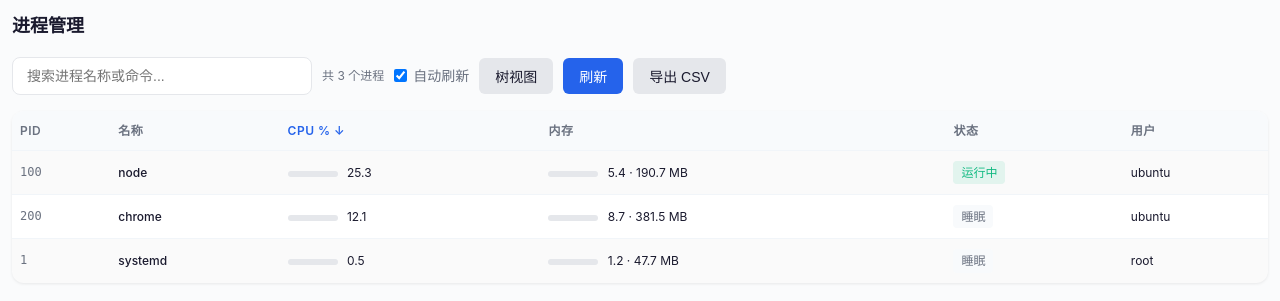
Scenario: Processes › shows empty state when search has no results
This screenshot has width=1280, height=301.
Type "nonexistent_process_xyz" into the field with class "search-input" at {"x": 162, "y": 76}, box [12,57,312,95]
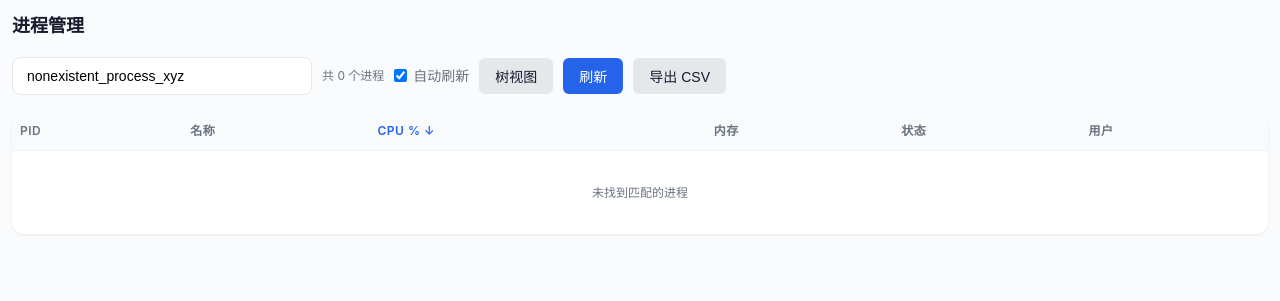
expect the cell with class "empty-state" is shown: met, box [12,150,1268,234]
